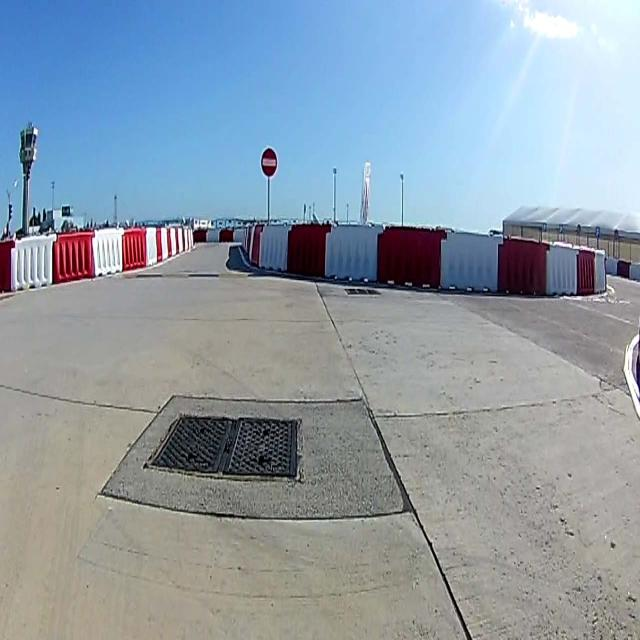girisyok: (261, 147, 277, 177)
